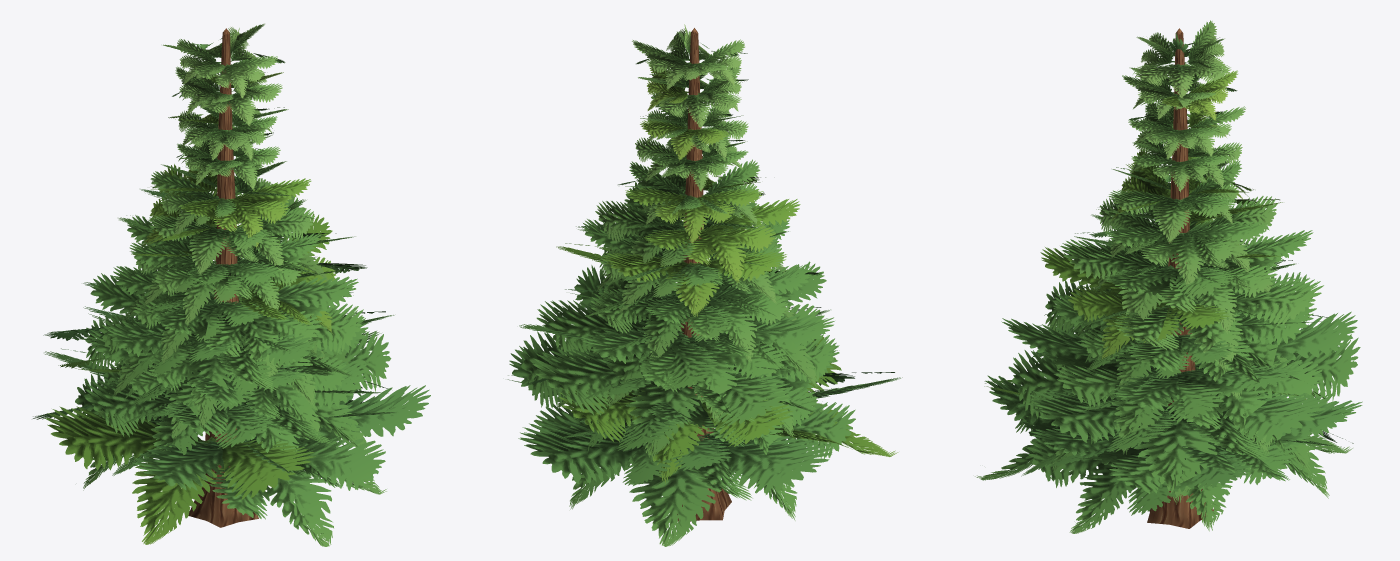
File: pine_v2.glb
3 views of the same model, side by side, from view 1: azimuth 30°, elevation 25°; view 2: azimuth 150°, elevation 25°; view 3: azimuth 270°, elevation 25° (orthographic).
Parts seen in each view (by area): view 1: pine_v2_leaves_LOD0, pine_v2_trunk_LOD0; view 2: pine_v2_leaves_LOD0, pine_v2_trunk_LOD0; view 3: pine_v2_leaves_LOD0, pine_v2_trunk_LOD0.
Boxes of the visible parts, box(x1,y1,x2,y2) form: pine_v2_leaves_LOD0: box(33, 23, 430, 546); pine_v2_trunk_LOD0: box(188, 28, 258, 527); pine_v2_leaves_LOD0: box(507, 24, 902, 546); pine_v2_trunk_LOD0: box(677, 28, 731, 521); pine_v2_leaves_LOD0: box(975, 20, 1362, 533); pine_v2_trunk_LOD0: box(1147, 28, 1213, 528).
Size of what is drawn, in the model's own units: 10 by 12.24 by 9.73.
Materials: 2 (2 with a texture image).
